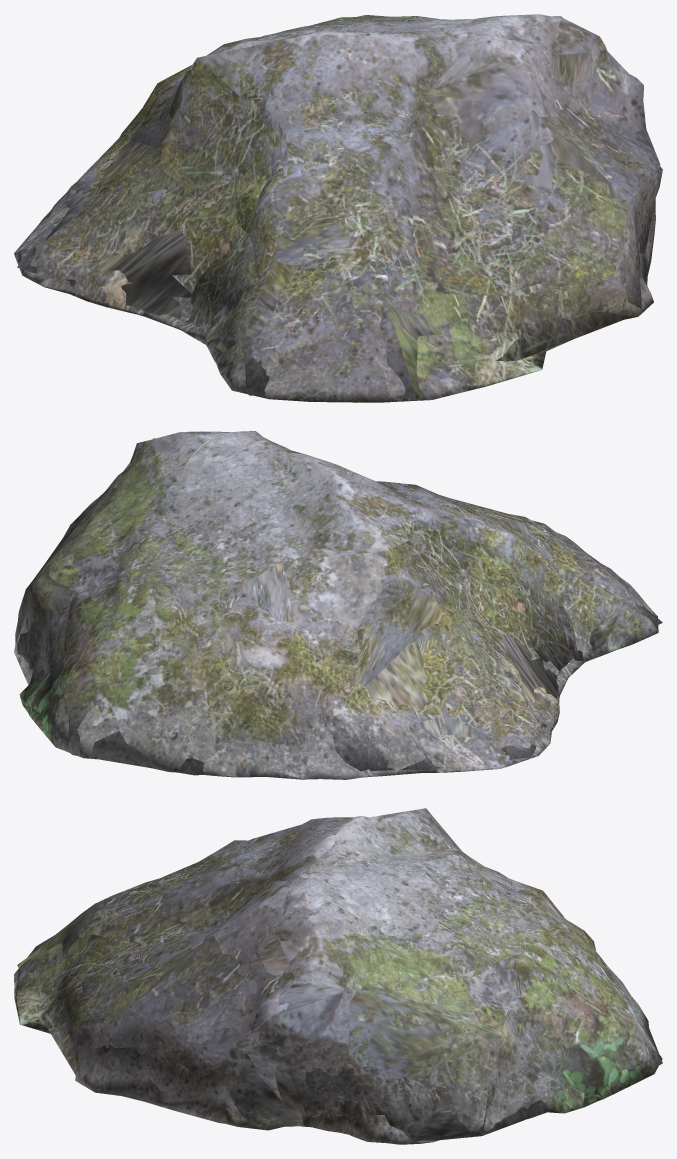
File: stone_01.glb
The picture shows the model from 3 angles, top to bottom: view 1: azimuth 30°, elevation 25°; view 2: azimuth 150°, elevation 25°; view 3: azimuth 270°, elevation 25°; orthographic projection. The views are drawn at different scales.
Parts seen in each view (by area): view 1: Rock, Pebble; view 2: Rock, Pebble; view 3: Rock, Pebble.
Boxes of the visible parts, x1,y1,x2,y2 form: Rock: (14,14,662,402); Pebble: (17,15,660,398); Rock: (15,431,658,779); Pebble: (14,438,662,775); Rock: (14,810,662,1144); Pebble: (17,808,662,1142).
Size of the model in its own units: 1.83 by 0.6505 by 2.
Materials: 1 (1 with a texture image).
